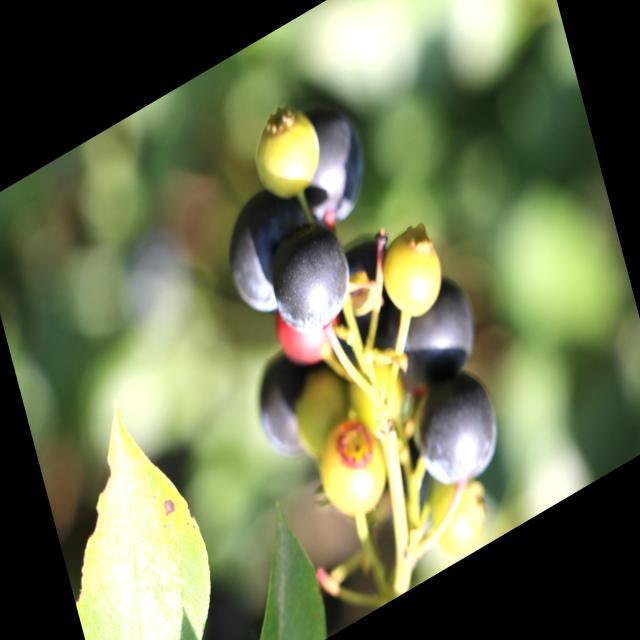blueberry: (211, 164, 328, 334), (401, 348, 514, 510), (376, 259, 491, 417), (276, 85, 385, 248), (258, 202, 367, 356), (243, 326, 347, 484), (323, 211, 416, 360)
blueberry-halfripe: (270, 287, 334, 378)
blueberry-unripe: (310, 407, 396, 535), (245, 92, 331, 215), (374, 220, 451, 334), (420, 458, 491, 560)
